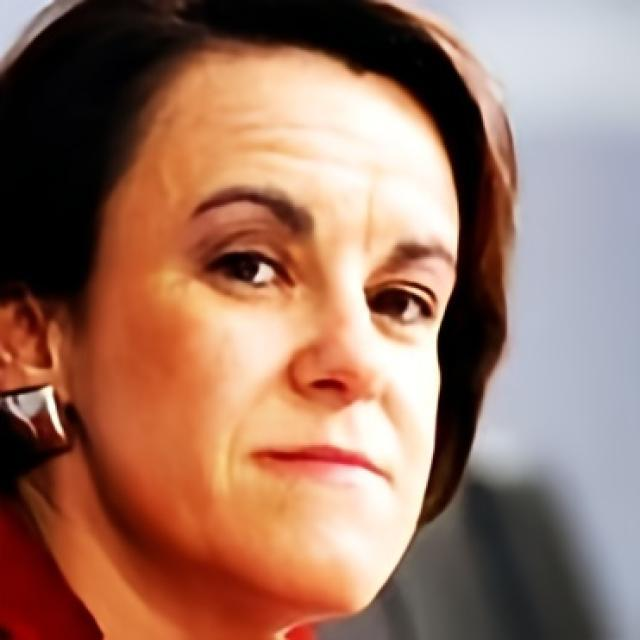content: (78, 30, 461, 612)
